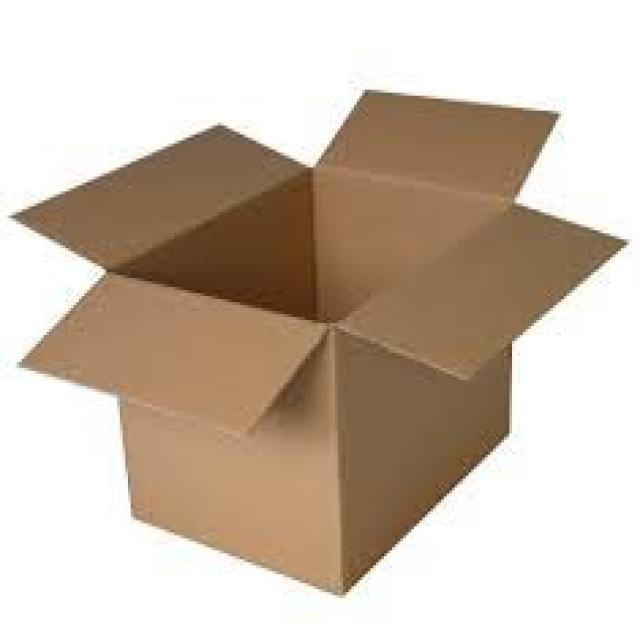Cardboard: (5, 94, 637, 597)
